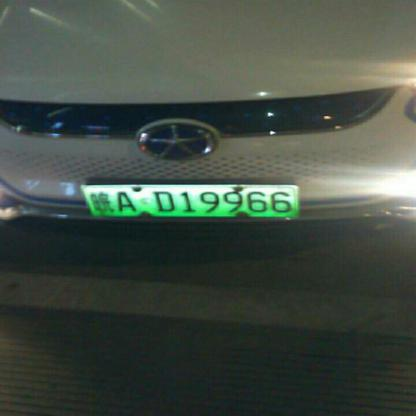lp: (83, 185, 295, 217)
